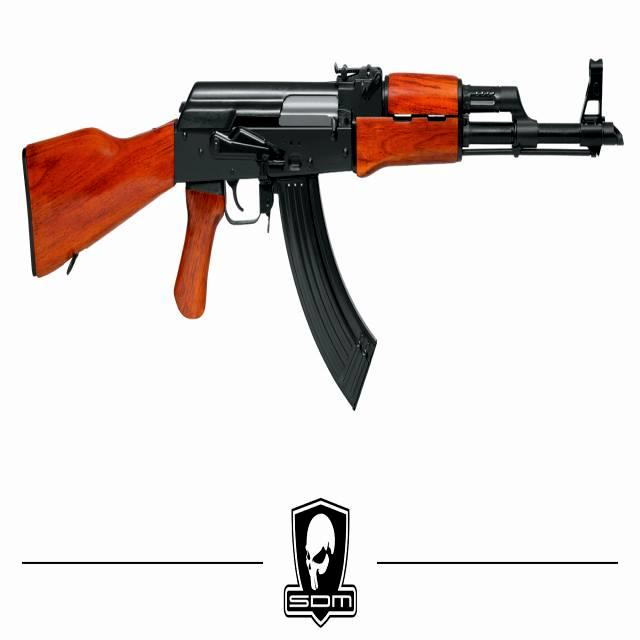ak: (23, 57, 629, 412)
